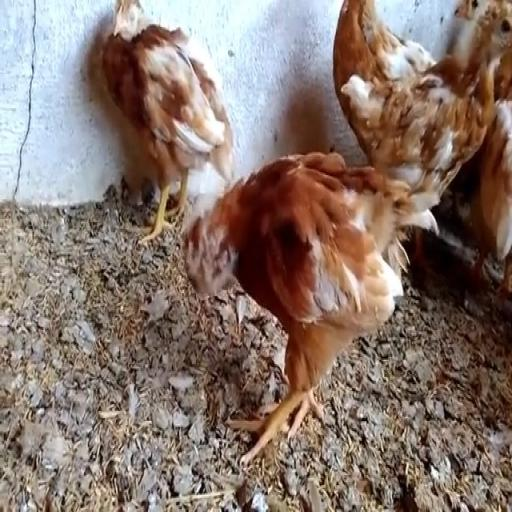disease: (182, 212, 239, 310), (102, 0, 149, 44)
